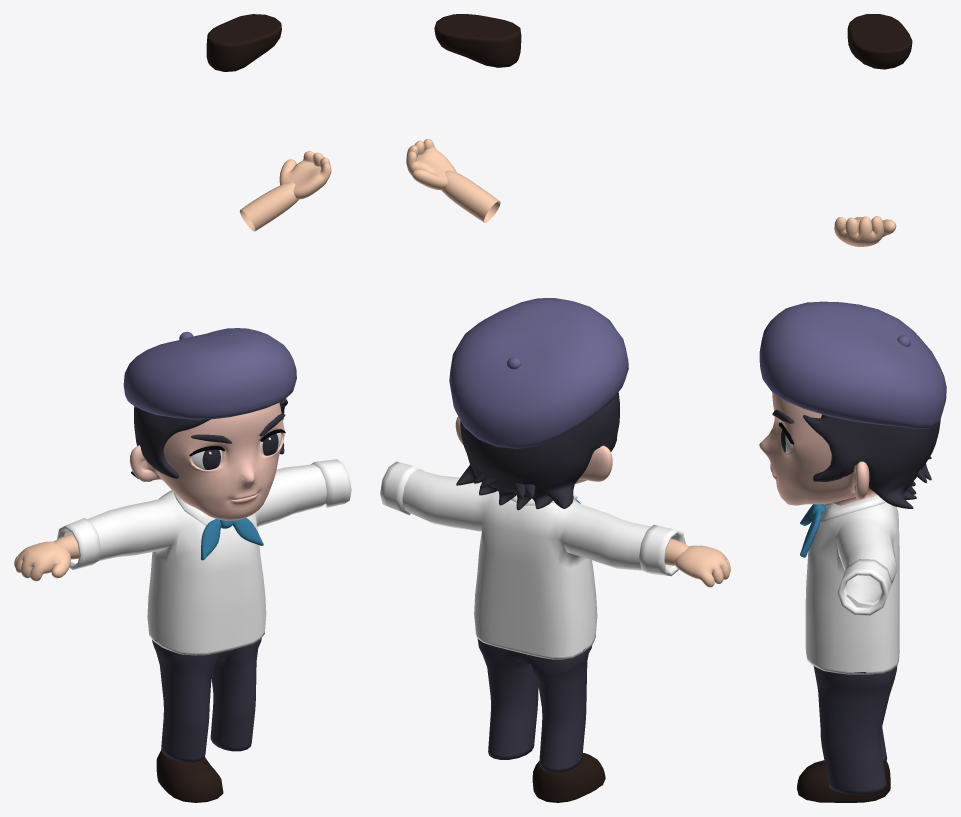
The model's file is 캐릭터_화가2_(수정).fbx.
3 renders of one model, left to right at view 1: azimuth 30°, elevation 25°; view 2: azimuth 150°, elevation 25°; view 3: azimuth 270°, elevation 25°, orthographic. The views are drawn at different scales.
Parts seen in each view (by area): view 1: Character, Character_foot001, Character_foot, PM3D_Sphere3D1_7_low, PM3D_Sphere3D1_7_low001, PM3D_Cylinder3D1_2_low001; view 2: Character, Character_foot001, Character_foot, PM3D_Sphere3D1_7_low001, PM3D_Sphere3D1_7_low, PM3D_Cylinder3D1_2_low001; view 3: Character, Character_foot001, Character_foot, PM3D_Sphere3D1_7_low001.
Part boxes in pixels (bbox=[...]): Character: bbox=[57, 328, 351, 762]; Character_foot001: bbox=[206, 14, 281, 71]; Character_foot: bbox=[156, 750, 223, 802]; PM3D_Sphere3D1_7_low: bbox=[14, 541, 70, 581]; PM3D_Sphere3D1_7_low001: bbox=[279, 151, 331, 199]; PM3D_Cylinder3D1_2_low001: bbox=[239, 182, 298, 231]; Character: bbox=[380, 298, 685, 772]; Character_foot001: bbox=[434, 14, 521, 67]; Character_foot: bbox=[532, 753, 605, 802]; PM3D_Sphere3D1_7_low001: bbox=[406, 139, 456, 190]; PM3D_Sphere3D1_7_low: bbox=[674, 545, 730, 587]; PM3D_Cylinder3D1_2_low001: bbox=[442, 170, 500, 222]; Character: bbox=[759, 301, 946, 794]; Character_foot001: bbox=[847, 14, 912, 69]; Character_foot: bbox=[797, 760, 890, 802]; PM3D_Sphere3D1_7_low001: bbox=[834, 216, 896, 246].
Bounding box in the file's own units: 132 × 284 × 60.63.
3 materials, 1 textured.
